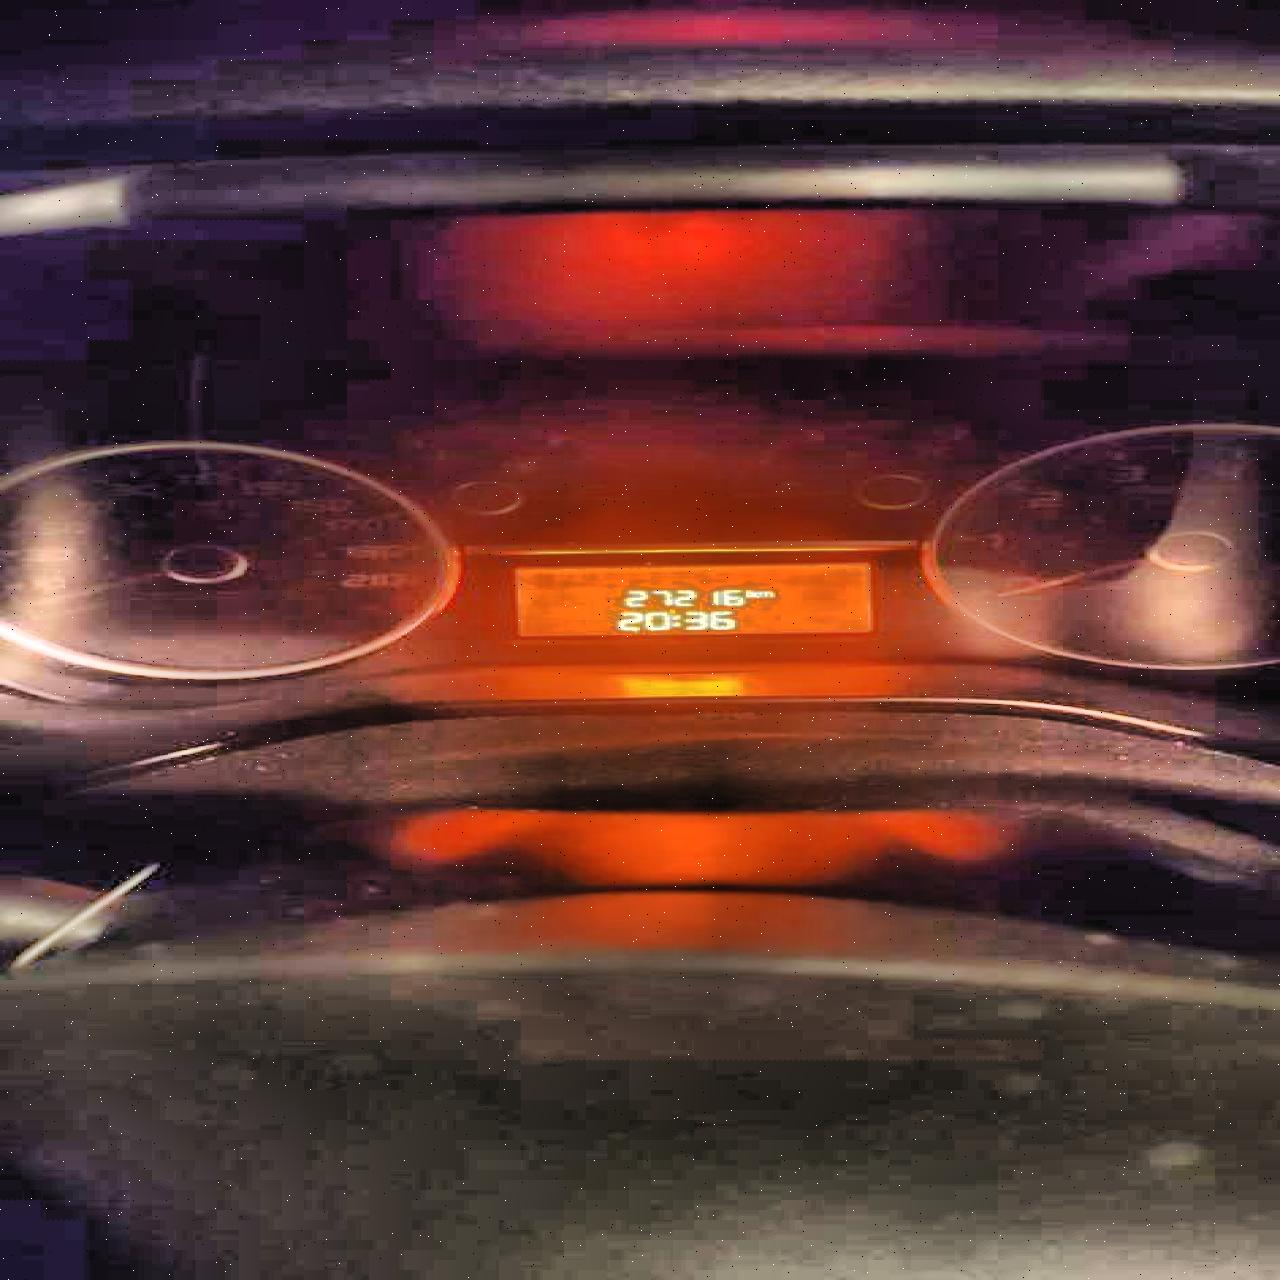0: (642, 610, 667, 631)
1: (706, 587, 719, 606)
2: (611, 608, 642, 632), (670, 587, 697, 606), (621, 587, 648, 606)
3: (678, 610, 704, 629)
6: (704, 610, 735, 629), (719, 587, 743, 605)
7: (648, 587, 669, 606)
X: (667, 613, 678, 628), (743, 587, 757, 598), (756, 591, 772, 598)
odometer: (498, 558, 881, 640)
